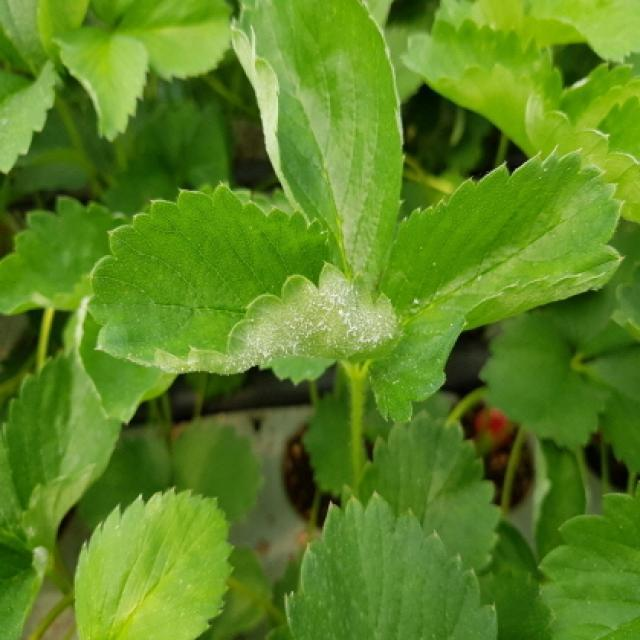powdery_mildew_leaf: (362, 141, 627, 429), (86, 183, 407, 376), (229, 0, 405, 287)
